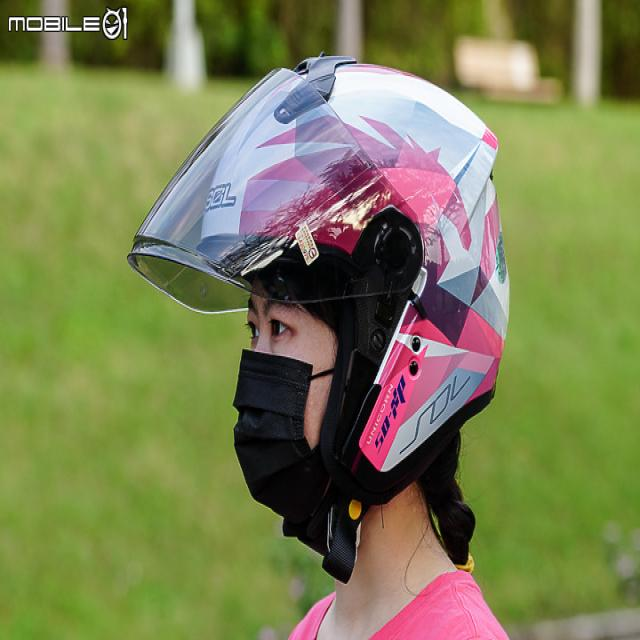helmet: (125, 46, 516, 568)
